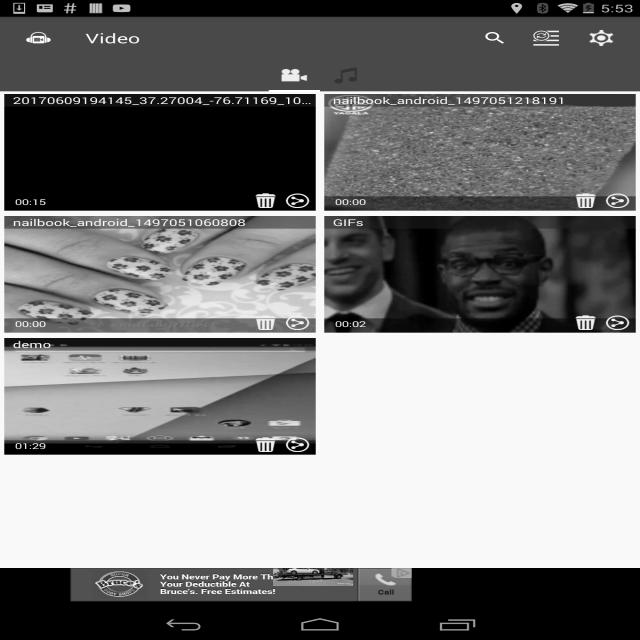ImageButton: (9, 17, 68, 59)
ImageView: (4, 94, 316, 211), (324, 94, 636, 211), (4, 216, 316, 333), (324, 216, 636, 333), (4, 338, 316, 455), (470, 22, 520, 54), (250, 190, 282, 210), (282, 190, 314, 210), (570, 190, 602, 210), (602, 190, 634, 210), (250, 312, 282, 332), (282, 312, 314, 332), (570, 312, 602, 332), (602, 312, 634, 332), (250, 434, 282, 454), (282, 434, 314, 454), (282, 68, 307, 84), (333, 68, 358, 84)
TextView: (4, 196, 316, 211), (324, 196, 636, 211), (4, 318, 316, 333), (324, 318, 636, 333), (4, 440, 316, 455), (4, 94, 316, 107), (324, 94, 636, 107), (4, 216, 316, 229), (324, 216, 636, 229), (4, 338, 316, 351), (572, 22, 631, 54), (520, 22, 572, 54), (86, 29, 140, 47)
